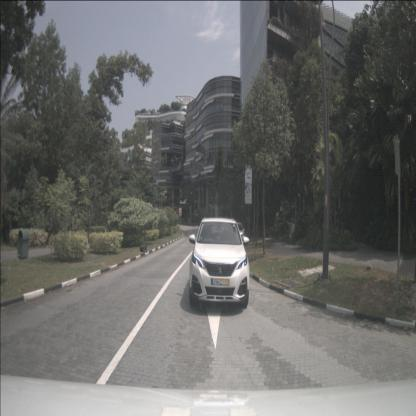vehicle-car: (189, 217, 250, 308), (231, 222, 245, 243)
